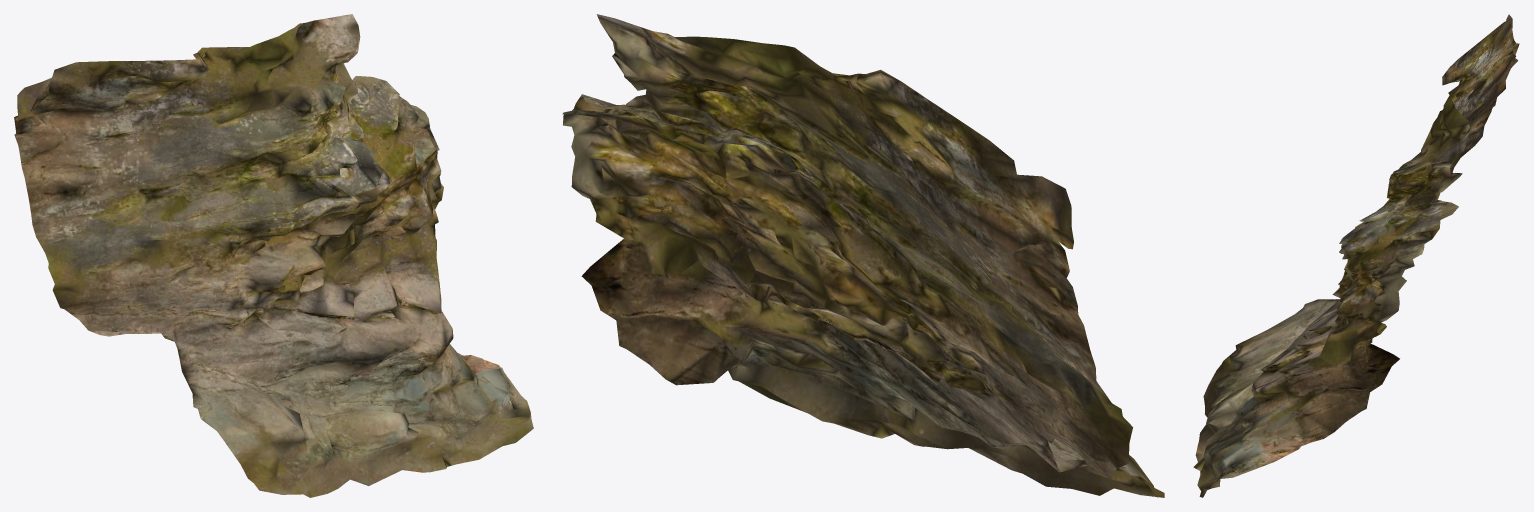
Rendered from rock_face_02.glb.
3 renders of one model, left to right at view 1: azimuth 30°, elevation 25°; view 2: azimuth 150°, elevation 25°; view 3: azimuth 270°, elevation 25°, orthographic. The views are drawn at different scales.
Visible parts, largest first — view 1: rock_face_02; view 2: rock_face_02; view 3: rock_face_02.
Boxes of the visible parts, x1,y1,x2,y2 form: rock_face_02: [14, 14, 533, 497]; rock_face_02: [562, 14, 1164, 497]; rock_face_02: [1193, 14, 1519, 497].
Bounding box in the file's own units: 2.71 × 2.47 × 2.13.
Materials: 1 (1 with a texture image).
